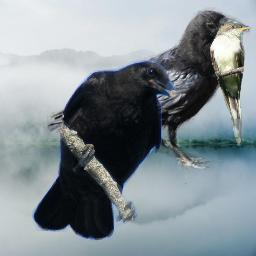Crow: (43, 7, 250, 170), (32, 60, 179, 242)
Cuckoo: (210, 21, 251, 146)
